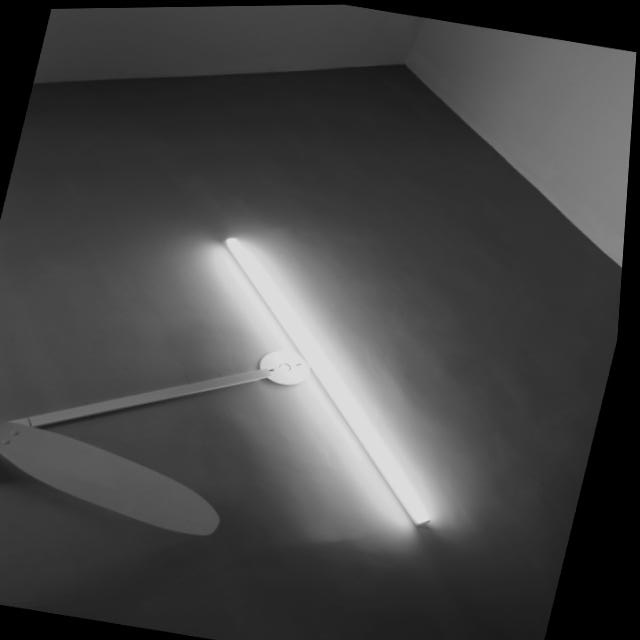fluorescent tube: (144, 217, 523, 549)
